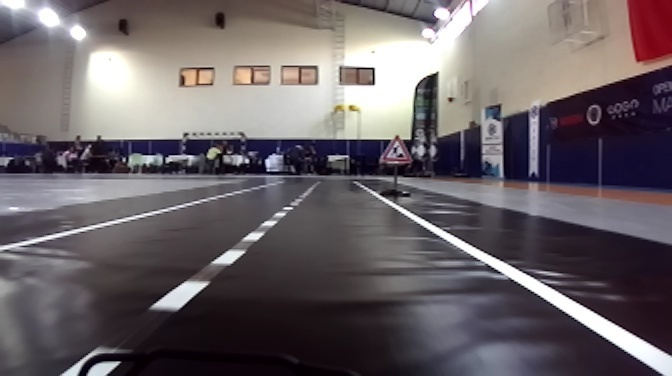yol_yapimi: (380, 128, 416, 165)
